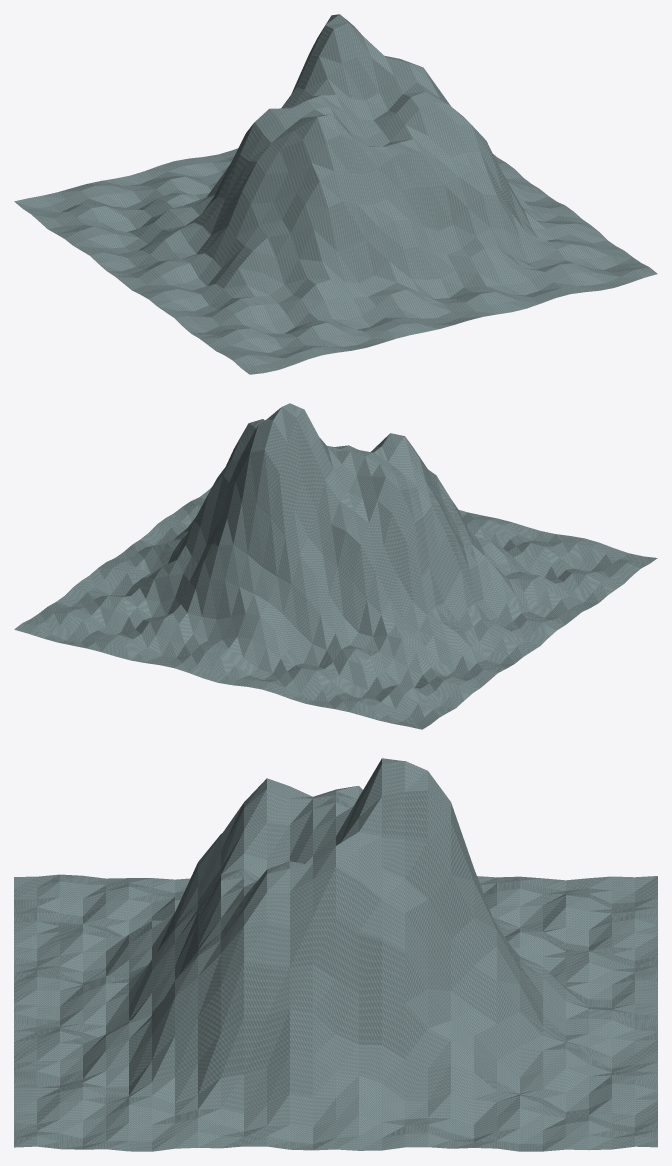
The model's file is distant_mountain_02.glb.
3 renders of one model, top to bottom at view 1: azimuth 30°, elevation 25°; view 2: azimuth 150°, elevation 25°; view 3: azimuth 270°, elevation 25°, orthographic. The views are drawn at different scales.
Visible parts, largest first — view 1: massif; view 2: massif; view 3: massif.
Part boxes in pixels (x1,y1,x2,y2): massif: [14, 14, 657, 374]; massif: [14, 403, 657, 729]; massif: [14, 758, 657, 1151].
Bounding box in the file's own units: 220 × 107 × 220.
Materials: 1 (1 with a texture image).
